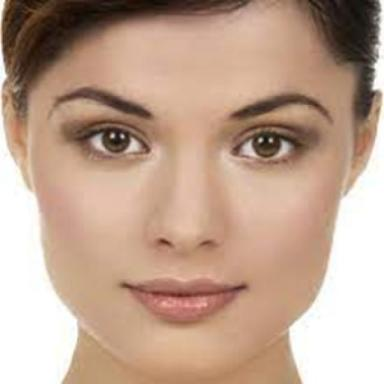normal skin: (28, 1, 356, 384)
